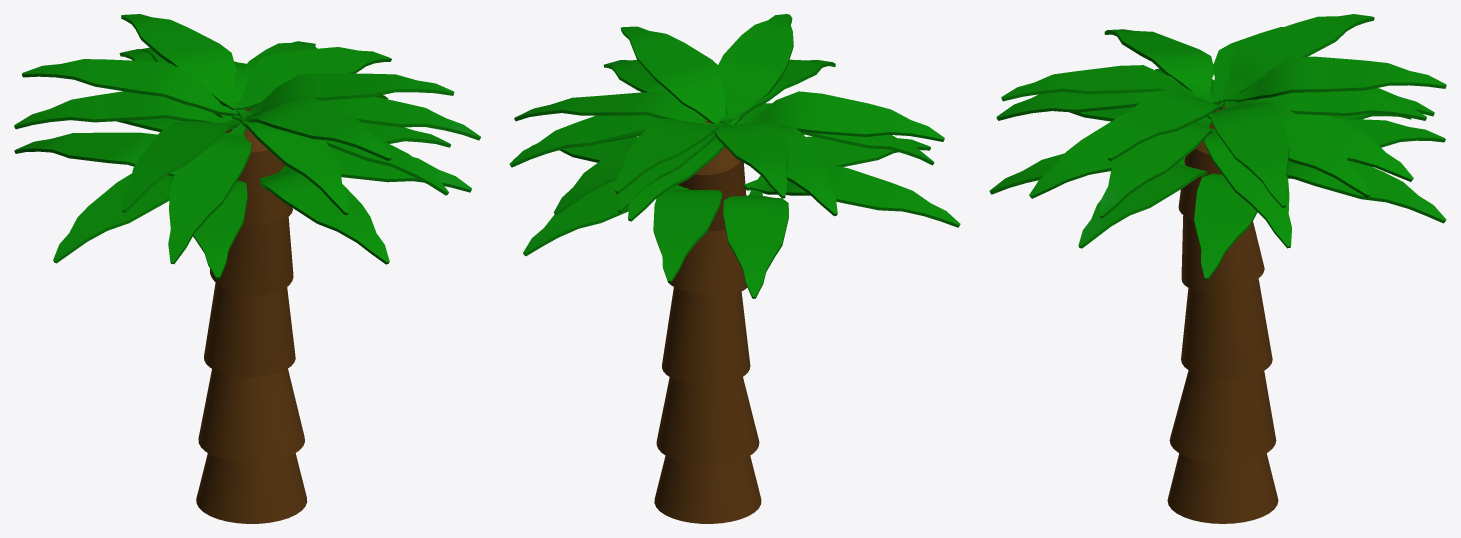
Rendered from coqueiro.fbx.
3 views of the same model, side by side, from view 1: azimuth 30°, elevation 25°; view 2: azimuth 150°, elevation 25°; view 3: azimuth 270°, elevation 25° (orthographic). The views are drawn at different scales.
Parts seen in each view (by area): view 1: Plane.017, Cylinder; view 2: Plane.017, Cylinder; view 3: Plane.017, Cylinder.
Part boxes in pixels (x1=…): Plane.017: x1=14, y1=14, x2=480, y2=279; Cylinder: x1=196, y1=107, x2=307, y2=523; Plane.017: x1=509, y1=14, x2=960, y2=298; Cylinder: x1=654, y1=121, x2=761, y2=523; Plane.017: x1=989, y1=14, x2=1446, y2=280; Cylinder: x1=1167, y1=106, x2=1278, y2=523.
Bounding box in the file's own units: 1476 × 1434 × 1391.
